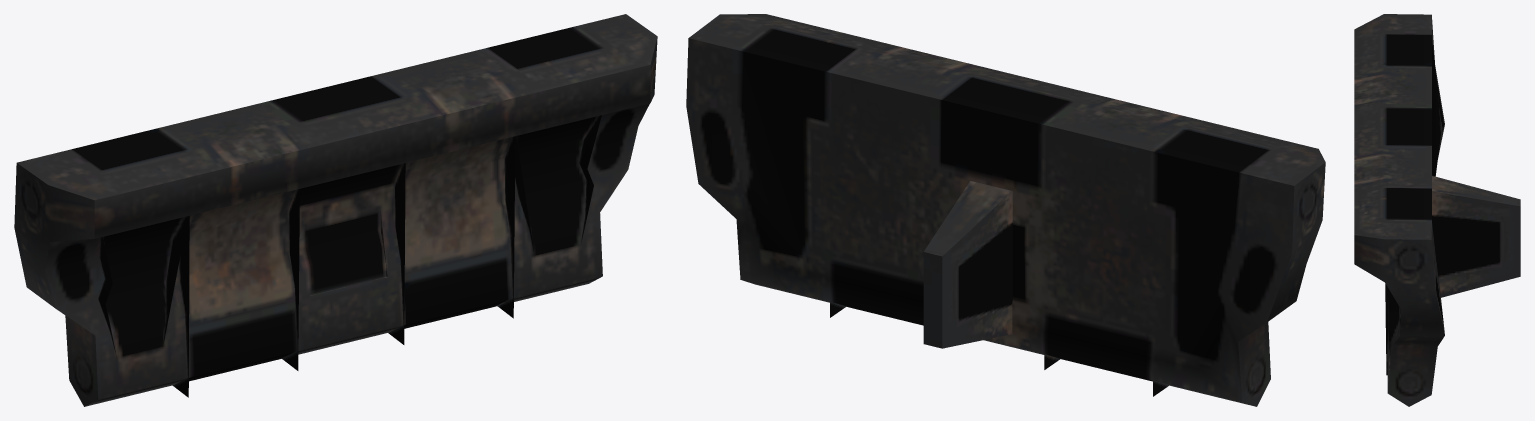
3 renders of one model, left to right at view 1: azimuth 30°, elevation 25°; view 2: azimuth 150°, elevation 25°; view 3: azimuth 270°, elevation 25°, orthographic. The views are drawn at different scales.
Visible parts, largest first — view 1: set_0_group_0; view 2: set_0_group_0; view 3: set_0_group_0.
Boxes of the visible parts, x1,y1,x2,y2 form: set_0_group_0: [14, 14, 657, 406]; set_0_group_0: [686, 14, 1325, 406]; set_0_group_0: [1354, 14, 1520, 406].
Bounding box in the file's own units: 0.3907 × 0.1525 × 0.1221.
1 material, 1 textured.
